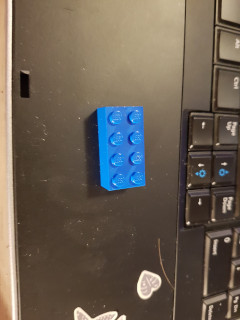2x4 blue: (89, 97, 154, 197)
